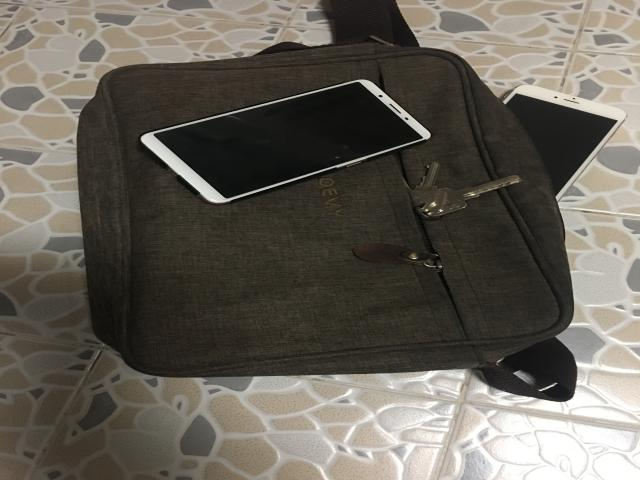Keys: (407, 162, 522, 218)
Mobile phone: (140, 80, 430, 203), (505, 85, 627, 200)
